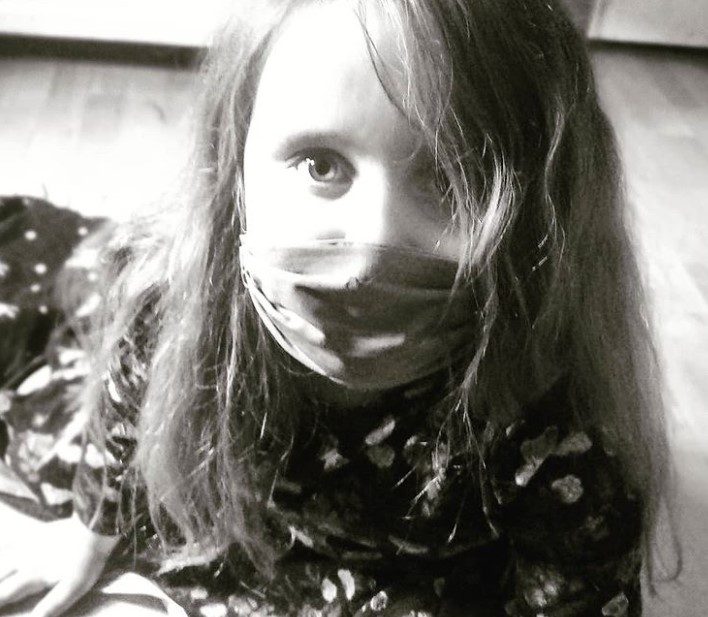face_with_mask: (208, 3, 568, 405)
